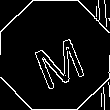M_N: (24, 23, 86, 87)
